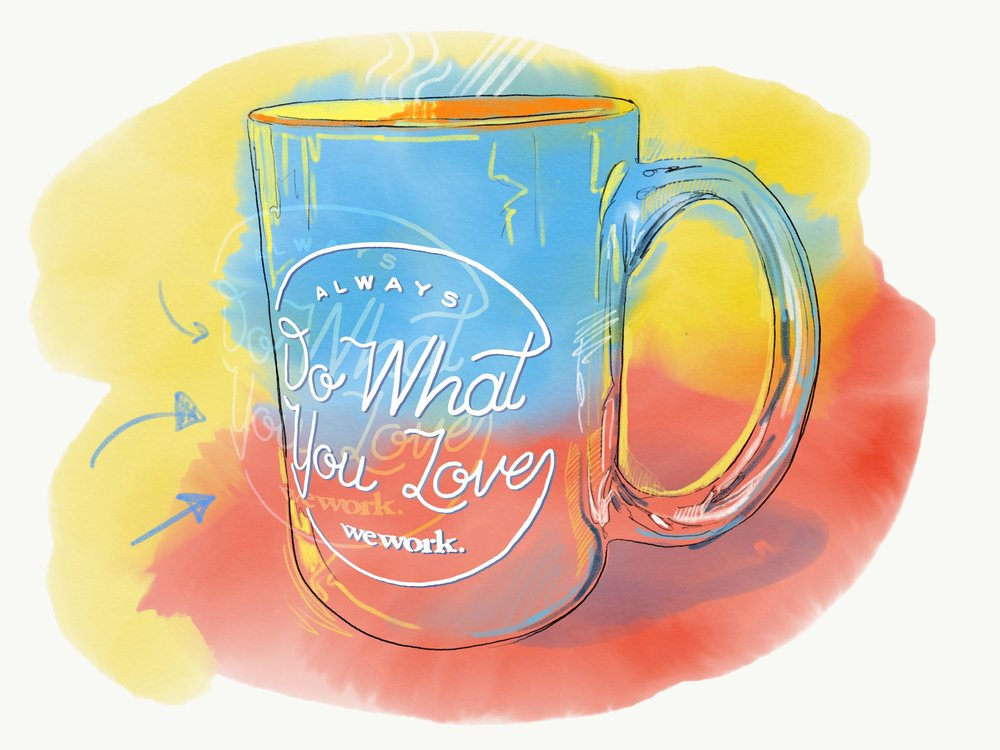wework: (337, 518, 459, 556)
